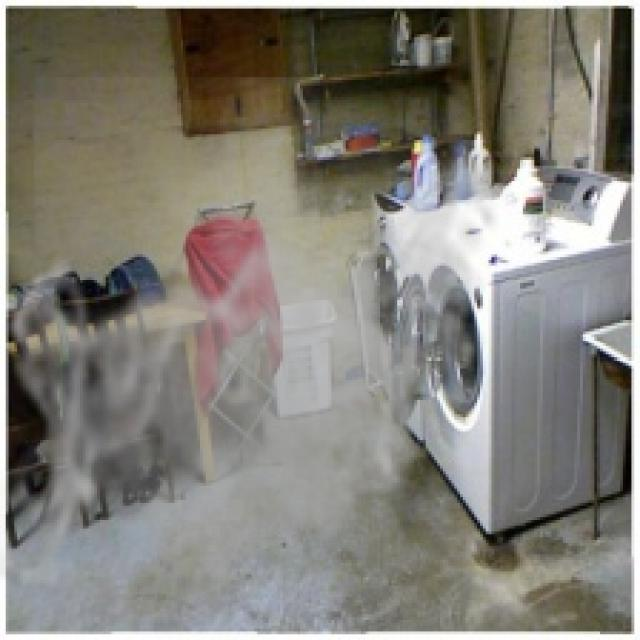smoke: (0, 77, 515, 615)
